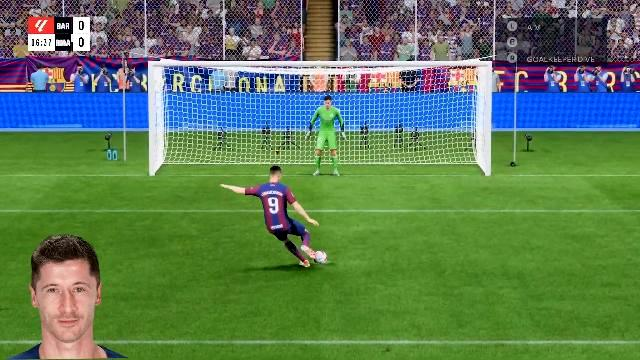bottom-left: (159, 130, 269, 176)
bottom-right: (376, 130, 484, 178)
center-down: (273, 132, 373, 176)
center-up: (272, 70, 358, 124)
football: (313, 248, 327, 262)
goalkeeper: (304, 98, 354, 176)
player: (220, 164, 328, 272)
top-left: (156, 70, 264, 122)
top-right: (363, 69, 487, 123)
